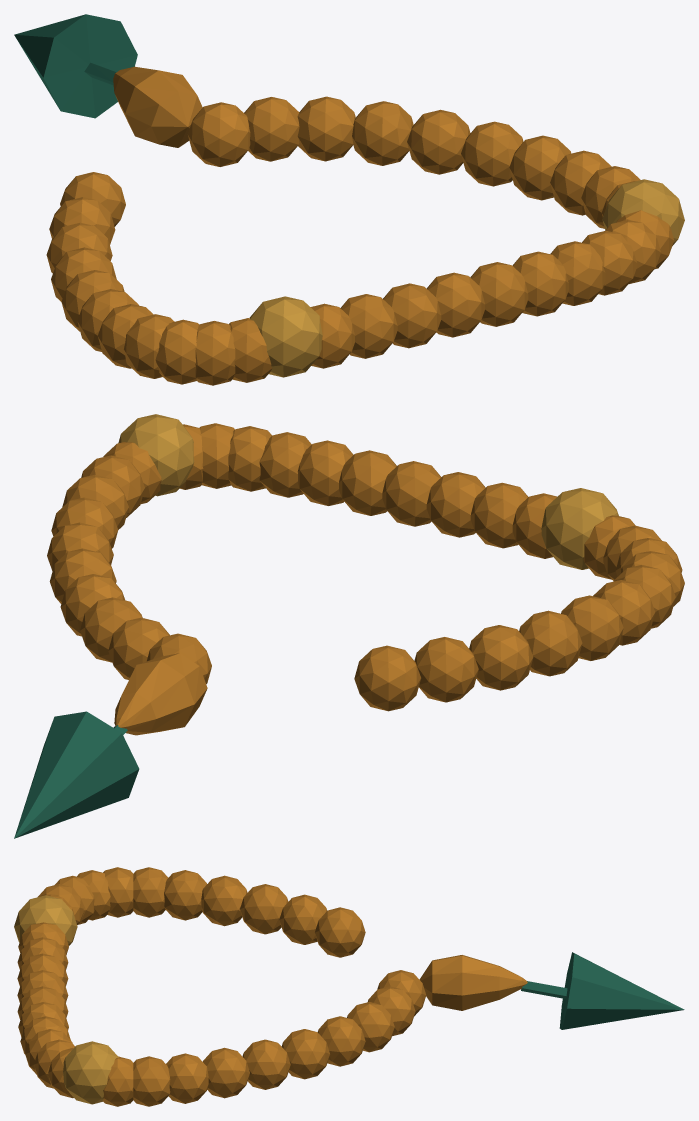
The model's file is ZB_obje_tesbih.glb.
3 renders of one model, top to bottom at view 1: azimuth 30°, elevation 25°; view 2: azimuth 150°, elevation 25°; view 3: azimuth 270°, elevation 25°, orthographic. The views are drawn at different scales.
Parts seen in each view (by area): view 1: ZB_obje_tesbih; view 2: ZB_obje_tesbih; view 3: ZB_obje_tesbih.
Boxes of the visible parts, <box> form: ZB_obje_tesbih: <box>14,14,684,385</box>; ZB_obje_tesbih: <box>14,414,684,838</box>; ZB_obje_tesbih: <box>14,867,684,1106</box>.
Bounding box in the file's own units: 0.3329 × 0.0561 × 0.4481.
